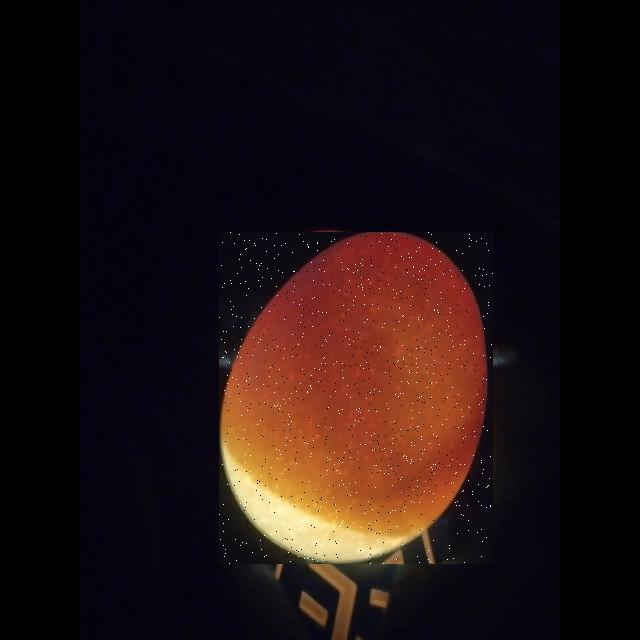Infertile: (219, 232, 493, 564)
